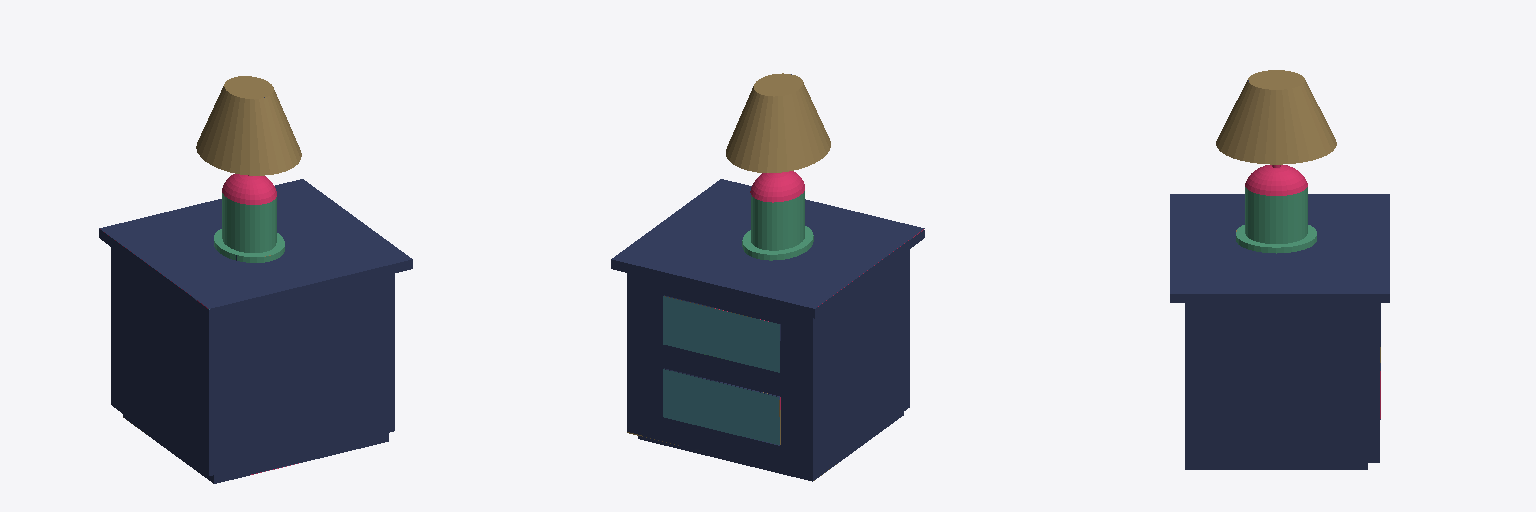
The picture shows the model from 3 angles: view 1: azimuth 30°, elevation 25°; view 2: azimuth 150°, elevation 25°; view 3: azimuth 270°, elevation 25°; orthographic projection.
Parts seen in each view (by area): view 1: Cube.018_Cube.033; view 2: Cube.018_Cube.033; view 3: Cube.018_Cube.033.
Part boxes in pixels (left/top/right/bottom): Cube.018_Cube.033: left=99, top=76, right=412, bottom=483; Cube.018_Cube.033: left=611, top=73, right=924, bottom=481; Cube.018_Cube.033: left=1170, top=70, right=1389, bottom=469.
Bounding box in the file's own units: 11.7 × 18.86 × 10.95.
Materials: 1 (1 with a texture image).